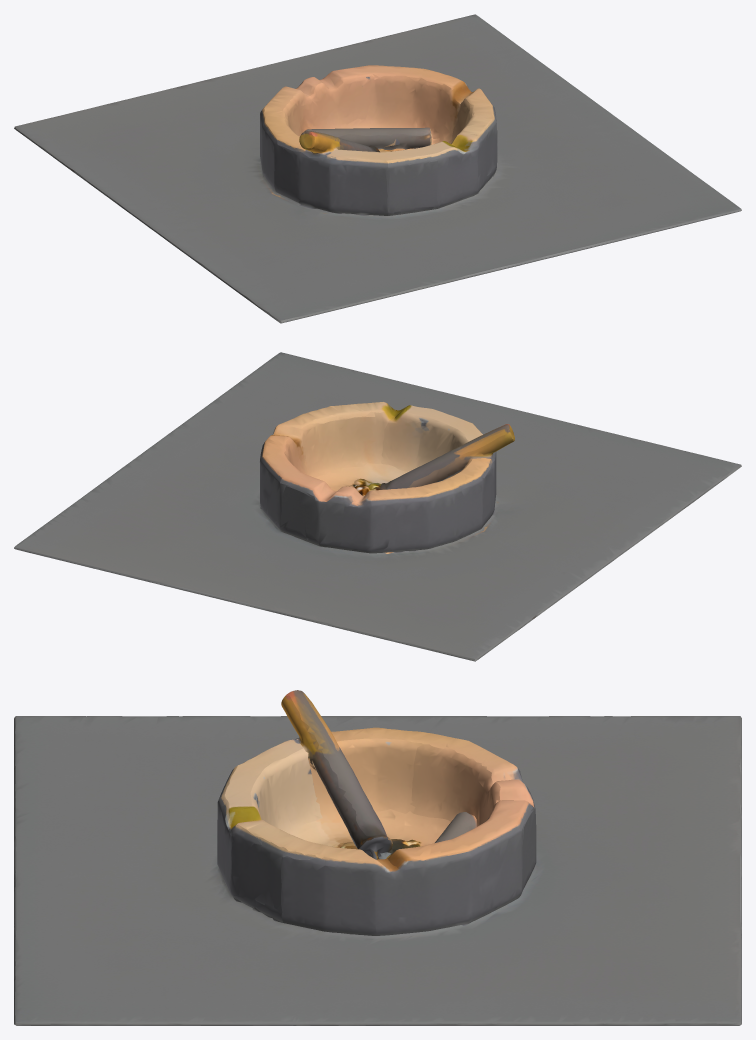
3 views of the same model, one above another, from view 1: azimuth 30°, elevation 25°; view 2: azimuth 150°, elevation 25°; view 3: azimuth 270°, elevation 25° (orthographic). The views are drawn at different scales.
Parts seen in each view (by area): view 1: textured_mesh; view 2: textured_mesh; view 3: textured_mesh.
Boxes of the visible parts, <box> form: textured_mesh: <box>14,14,741,323</box>; textured_mesh: <box>14,352,741,661</box>; textured_mesh: <box>14,690,741,1025</box>.
Bounding box in the file's own units: 1.99 × 0.3566 × 1.99.
Materials: 1 (1 with a texture image).
